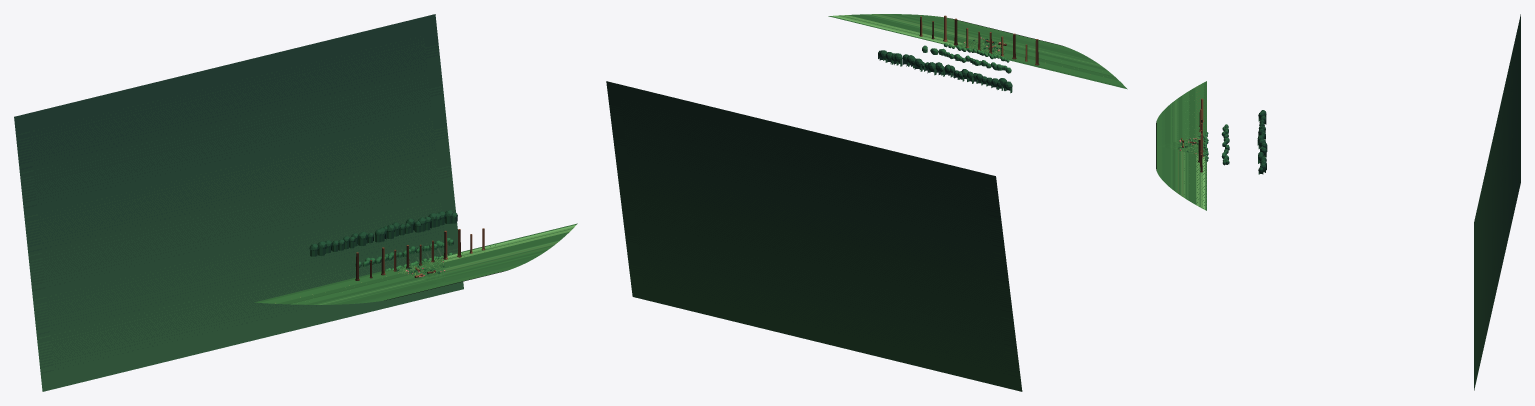
The model's file is bg_forest.glb.
3 views of the same model, side by side, from view 1: azimuth 30°, elevation 25°; view 2: azimuth 150°, elevation 25°; view 3: azimuth 270°, elevation 25° (orthographic). The views are drawn at different scales.
Parts seen in each view (by area): view 1: sky, ground, trees_far, forest_decor, trees_mid; view 2: sky, ground, trees_far, forest_decor, trees_mid; view 3: sky, ground, trees_far, forest_decor.
Part boxes in pixels (box(x1,y1,x2,y2)): sky: box(14, 14, 463, 391); ground: box(254, 223, 577, 304); trees_far: box(309, 210, 457, 256); forest_decor: box(355, 228, 485, 280); trees_mid: box(355, 238, 453, 267); sky: box(606, 81, 1022, 391); ground: box(828, 14, 1127, 89); trees_far: box(878, 50, 1012, 93); forest_decor: box(919, 15, 1039, 65); trees_mid: box(922, 45, 1011, 73); sky: box(1474, 14, 1520, 390); ground: box(1156, 81, 1206, 210); trees_far: box(1257, 110, 1267, 174); forest_decor: box(1178, 98, 1203, 172).
Size of the model in its own units: 104 by 59.92 by 94.79.
13 materials, 2 textured.
